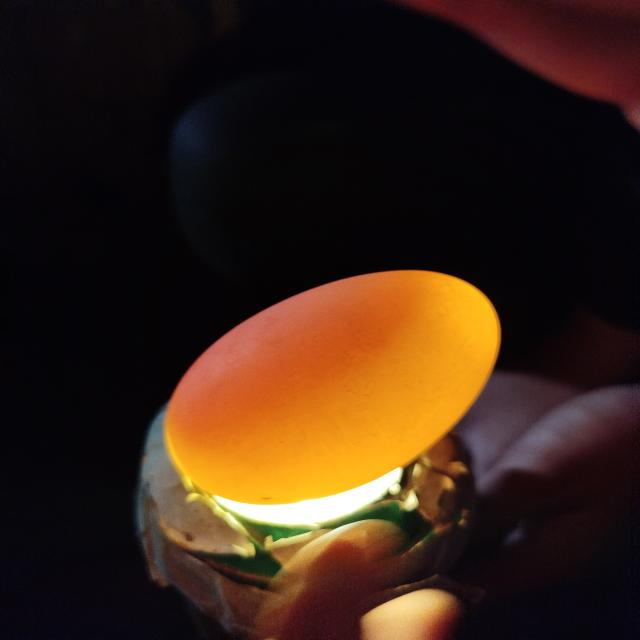Gema Quebrada: (169, 270, 430, 434)
